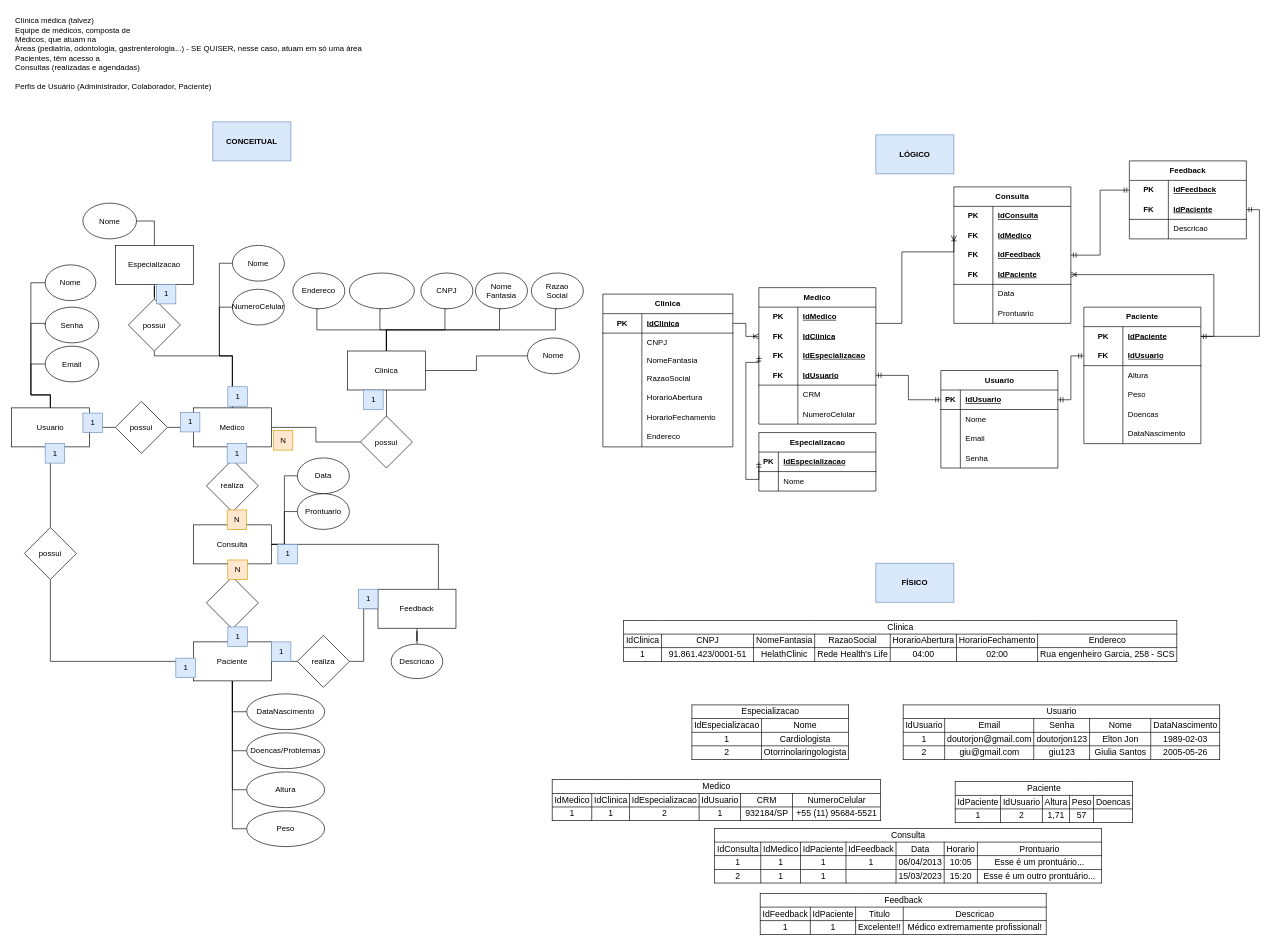
The diagram is 1277 pixels wide and 946 high, and some of its shapes have lost their labels. The box of each missing label's shape, as (x1, y1, x2, y2) in pixels:
atende: (206, 576, 258, 629)
Horario Funcionamento: (349, 272, 414, 309)
